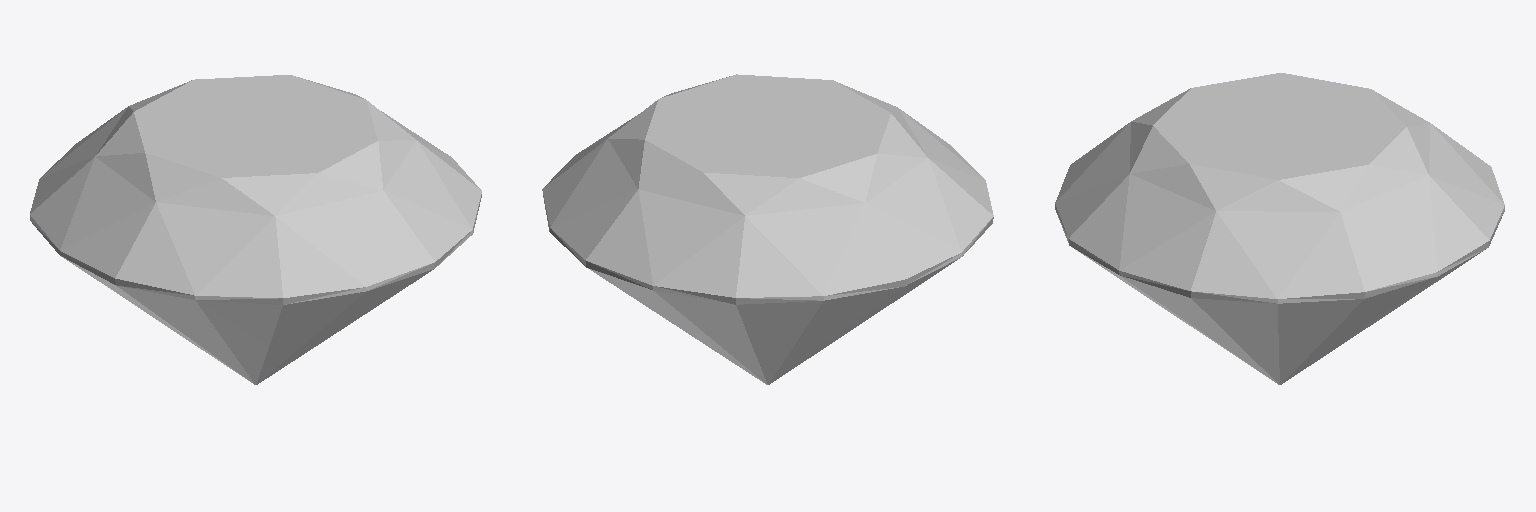
The model's file is ChaosEmeraldRED.obj.
The picture shows the model from 3 angles: view 1: azimuth 30°, elevation 25°; view 2: azimuth 150°, elevation 25°; view 3: azimuth 270°, elevation 25°; orthographic projection.
Parts seen in each view (by area): view 1: rdmobj01; view 2: rdmobj01; view 3: rdmobj01.
Part boxes in pixels (bbox=[...]): rdmobj01: bbox=[30, 75, 481, 384]; rdmobj01: bbox=[542, 74, 993, 384]; rdmobj01: bbox=[1055, 73, 1504, 384].
Size of the model in its own units: 10.84 by 6.87 by 10.83.